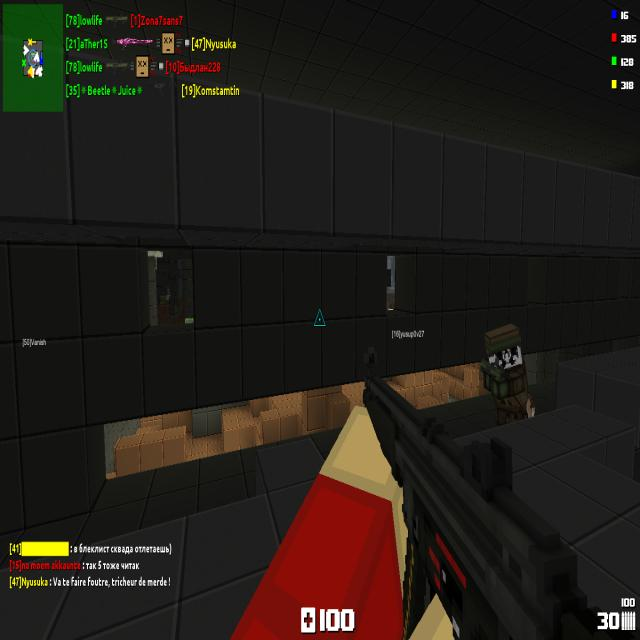enemy: (484, 322, 534, 424)
